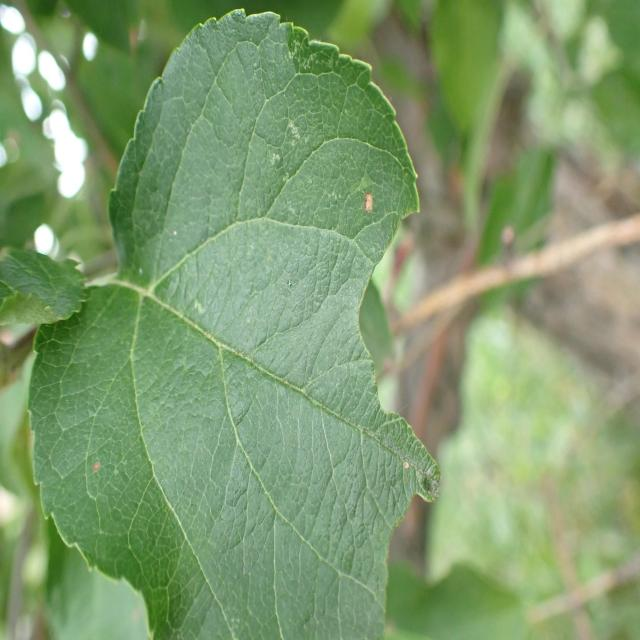Black Rot: (352, 185, 388, 228)
